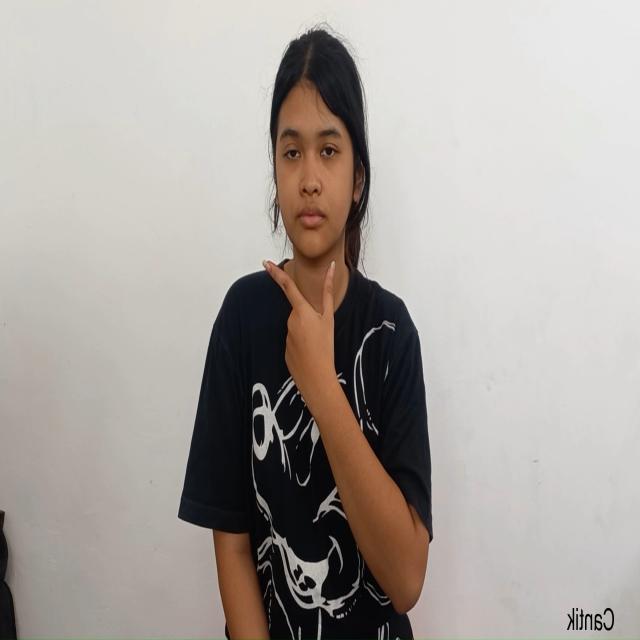Cantik -BISINDO-: (255, 16, 372, 437)
